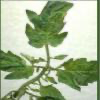Tomato leaf mosaic virus: (23, 2, 75, 50), (57, 57, 98, 91), (2, 48, 35, 82)
